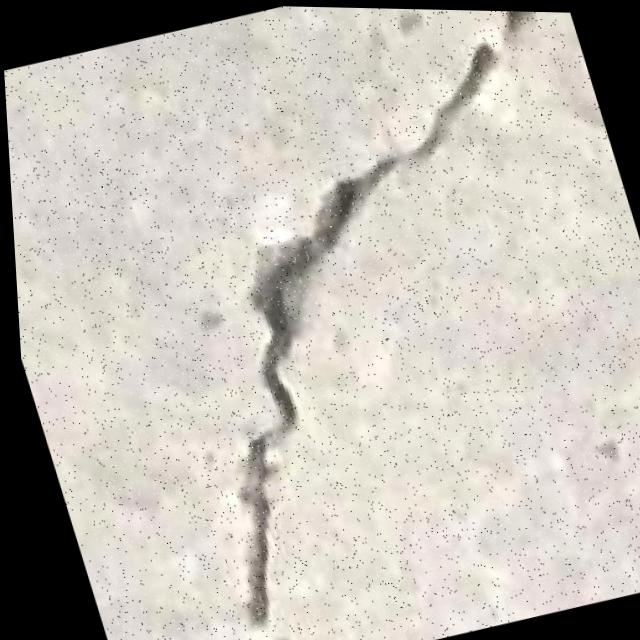Crack: (42, 1, 640, 640)
